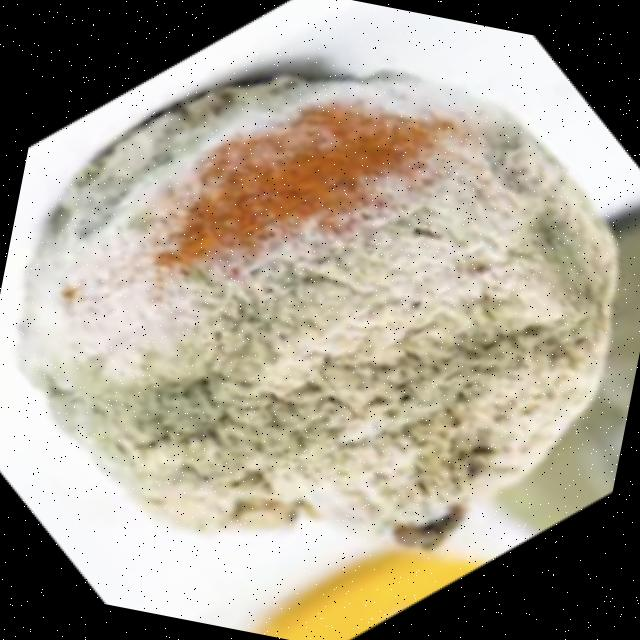Rotten: (0, 10, 640, 609)
